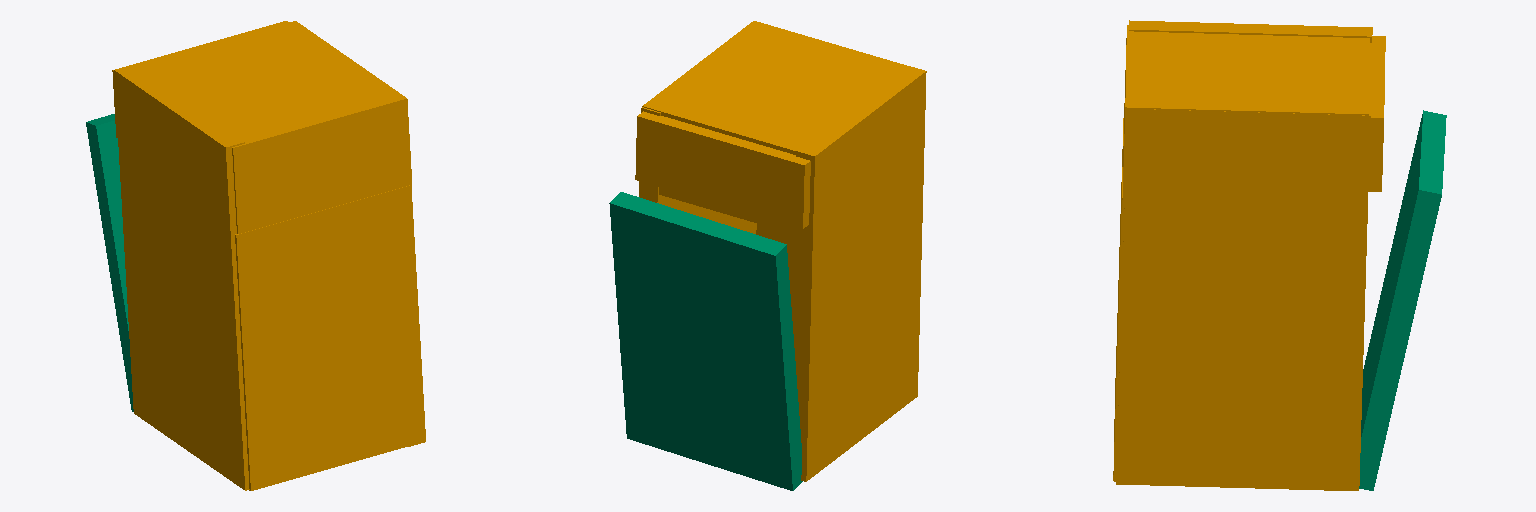
The robot description file, URDF, robot "microwave":
<?xml version="1.0"?>
<robot name="microwave">
  <link name ="rb0">
    <visual>
      <origin xyz='-0.037517 -0.154535 -0.300424' rpy='0.565469 -1.518863 2.568221'/>
      <geometry>
        <mesh filename="package://articulated_objects_db/data/objects/microwave/meshes/microwave.obj"  scale="1 1 1" />
      </geometry>
    </visual>
  </link>
  <joint name="j_0_1" type="revolute">
    <parent link="rb0"/>
    <child link="rb1"/>
    <origin xyz="0.0491888572364 0.138689505084 -0.50366401109" rpy="0 0 0 "/>
    <axis xyz="-0.998210936327 0.00987153809342 -0.0589701562974"/>
    <limit effort="30" velocity="1.0" lower="-3.1416" upper="3.1416"/>
  </joint>
  <joint name="j_0_fixed" type="fixed">
    <parent link="rb1"/>
    <child link="rb1_marker"/>
      <origin xyz="-0.0229595400091 0.0842538818972 0.399088030911" rpy="-3.09454086444 -0.0532649162143 -1.56854246795"/>
    <limit effort="30" velocity="1.0" lower="-3.1416" upper="3.1416"/>
  </joint>
  <link name ="rb1">
  </link>
  <link name ="rb1_marker">
    <visual>
      <origin xyz='-0.066152 0.088149 0.213487' rpy='-1.581407 -0.158159 -3.113634'/>
      <geometry>
        <mesh filename="package://articulated_objects_db/data/objects/microwave/meshes/microwave_door.obj"  scale="1 1 1" />
      </geometry>
    </visual>
  </link>
</robot>

--- Facts derived from the render (not from the file) ---
3 views of the same robot in one strip: view 1: azimuth 30°, elevation 25°; view 2: azimuth 150°, elevation 25°; view 3: azimuth 270°, elevation 25° (orthographic).
Robot: microwave — 3 links, 2 joints (1 revolute, 1 fixed); root link rb0; default pose: every joint at zero.
Visible links, largest first — view 1: rb0, rb1_marker; view 2: rb0, rb1_marker; view 3: rb0, rb1_marker.
Boxes of the visible links, x1,y1,x2,y2 form: rb0: (112,21,425,490); rb1_marker: (86,114,133,411); rb0: (635,21,926,481); rb1_marker: (609,192,802,490); rb0: (1113,20,1385,490); rb1_marker: (1359,110,1446,490).
Size in the robot's own frame: 0.3046 by 0.4178 by 0.5358 metres.
Meshes: 2 distinct files referenced, 2 mesh visuals loaded (2 OBJ).